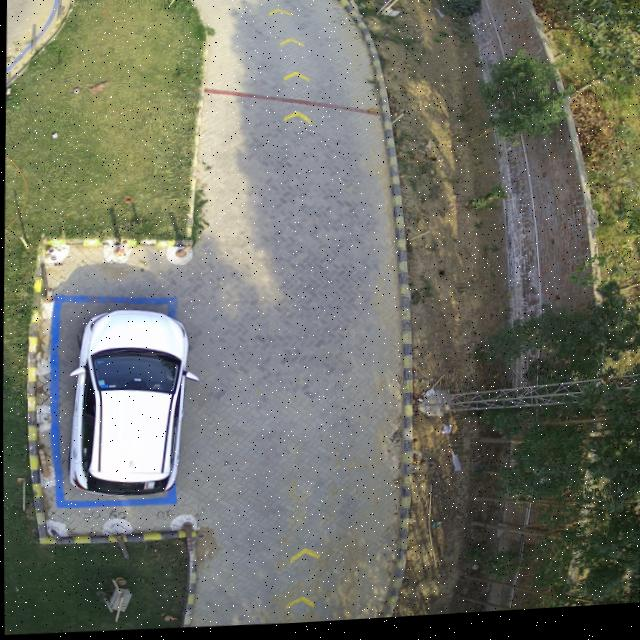car: (67, 311, 196, 497)
